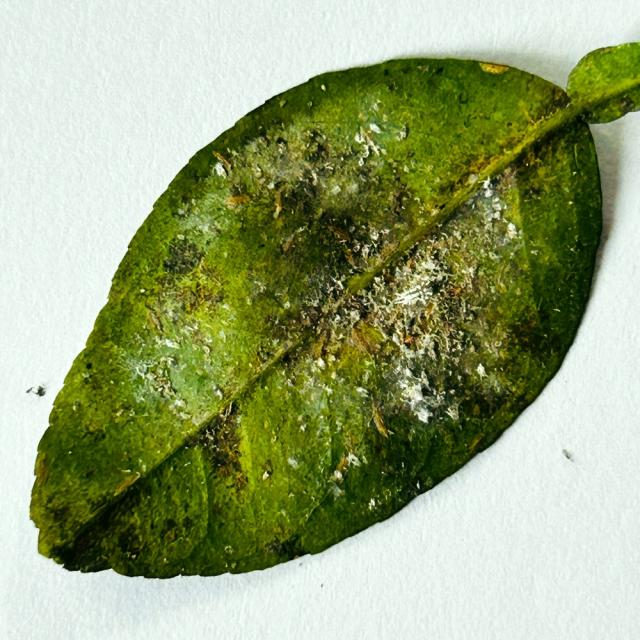Bacterial_Blight: (275, 260, 356, 348), (370, 334, 442, 429), (443, 175, 517, 261), (412, 273, 484, 357), (271, 153, 331, 225), (156, 261, 226, 322), (197, 402, 248, 485), (302, 208, 366, 270), (448, 340, 505, 402), (47, 527, 110, 572), (453, 379, 509, 427), (396, 296, 442, 347), (161, 237, 203, 277), (300, 134, 334, 169), (267, 534, 307, 563), (293, 304, 325, 340), (81, 365, 113, 395), (389, 186, 413, 220), (82, 411, 109, 435), (548, 88, 571, 114), (264, 538, 284, 555), (280, 349, 295, 367), (164, 525, 178, 543), (526, 185, 542, 200), (179, 193, 193, 208), (274, 135, 288, 149), (421, 385, 434, 397), (435, 66, 445, 75), (438, 203, 447, 210)
Lemon: (28, 44, 639, 582)
